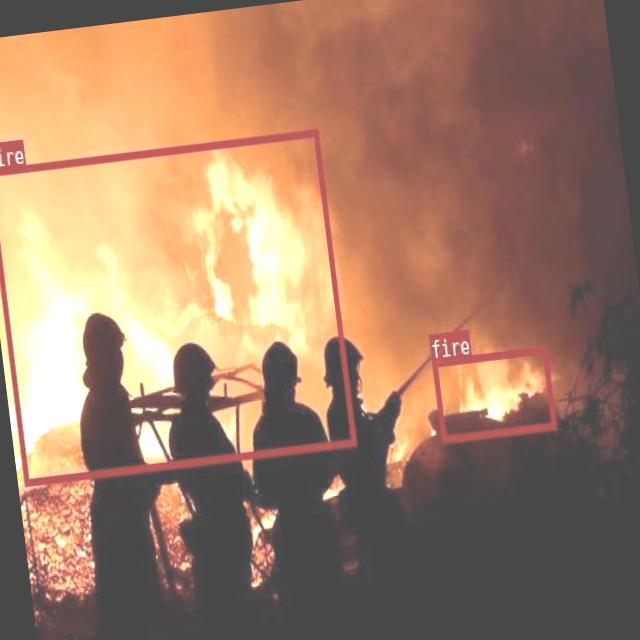fire: (0, 127, 355, 484), (430, 345, 554, 441)
